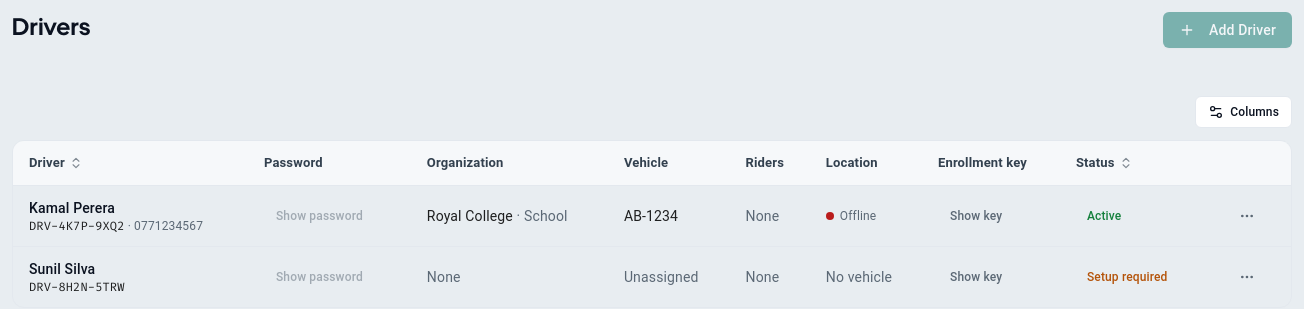
Test: ManagerAccountsPage: enrollment key offline (Offline & Caching Audit, chunk 2) › opens a key cached from an earlier reveal even while offline
Step 1. Click the button "Show key" in the row of "Kamal Perera" → (976, 216), box [938, 200, 1014, 232]
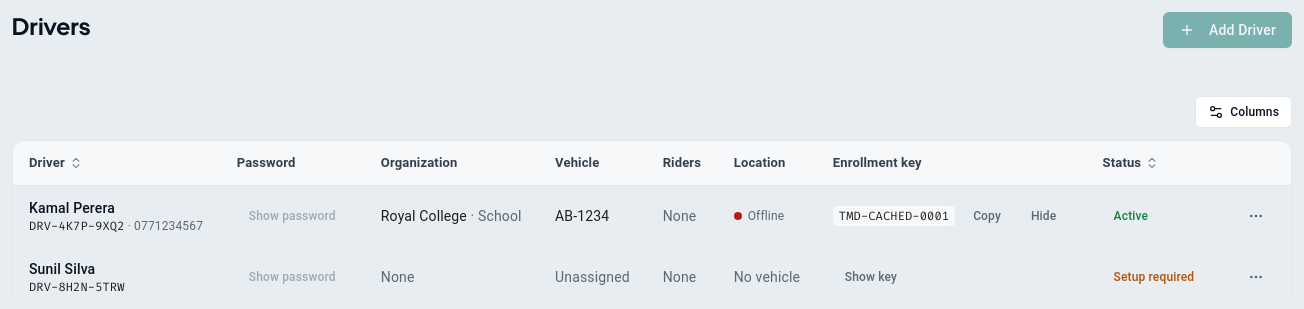
Expected: the text "TMD-CACHED-0001" is shown, [833, 206, 955, 226]
